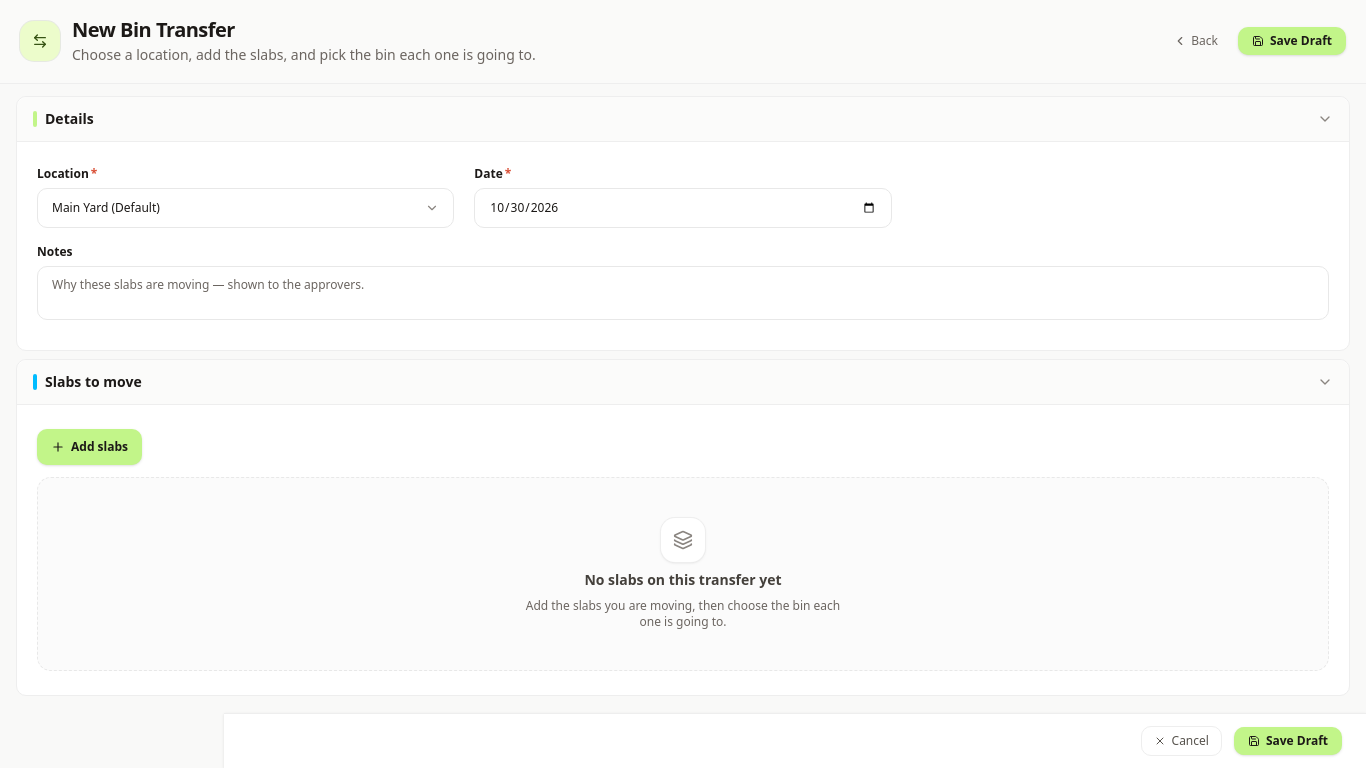
Test: AddBinTransferPage › searches the chosen location for movable slabs when adding
The width and height of the screenshot is (1366, 768).
Click the button "Add slabs" at x=90, y=447, box [37, 429, 142, 465]
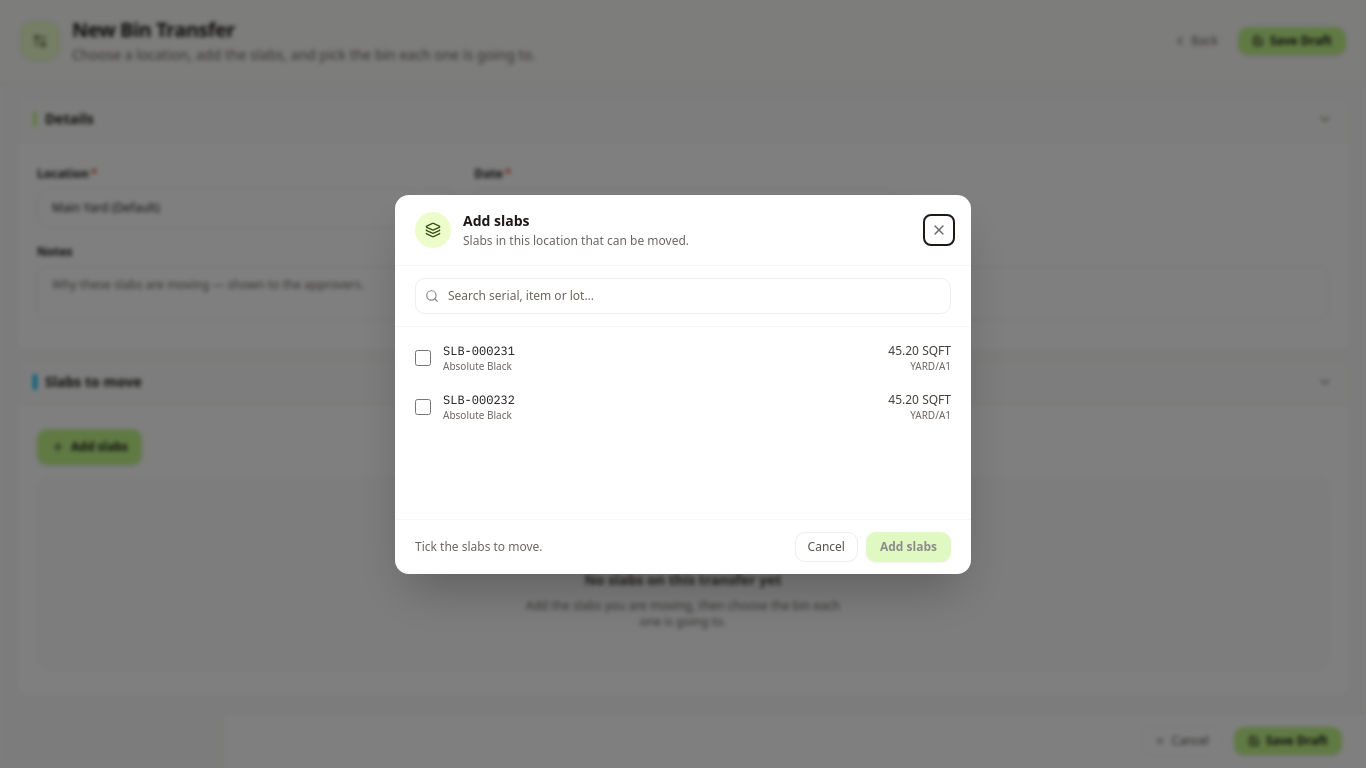
Check: the checkbox named "Select SLB-000231" is shown, box [415, 350, 431, 366]
